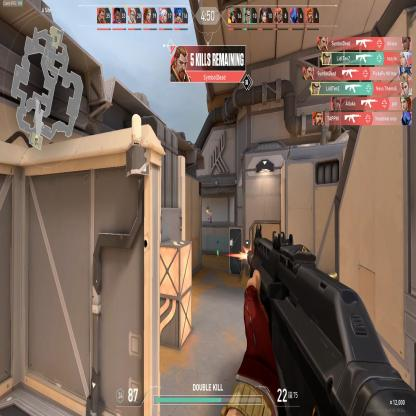enemy: (208, 209, 212, 226)
